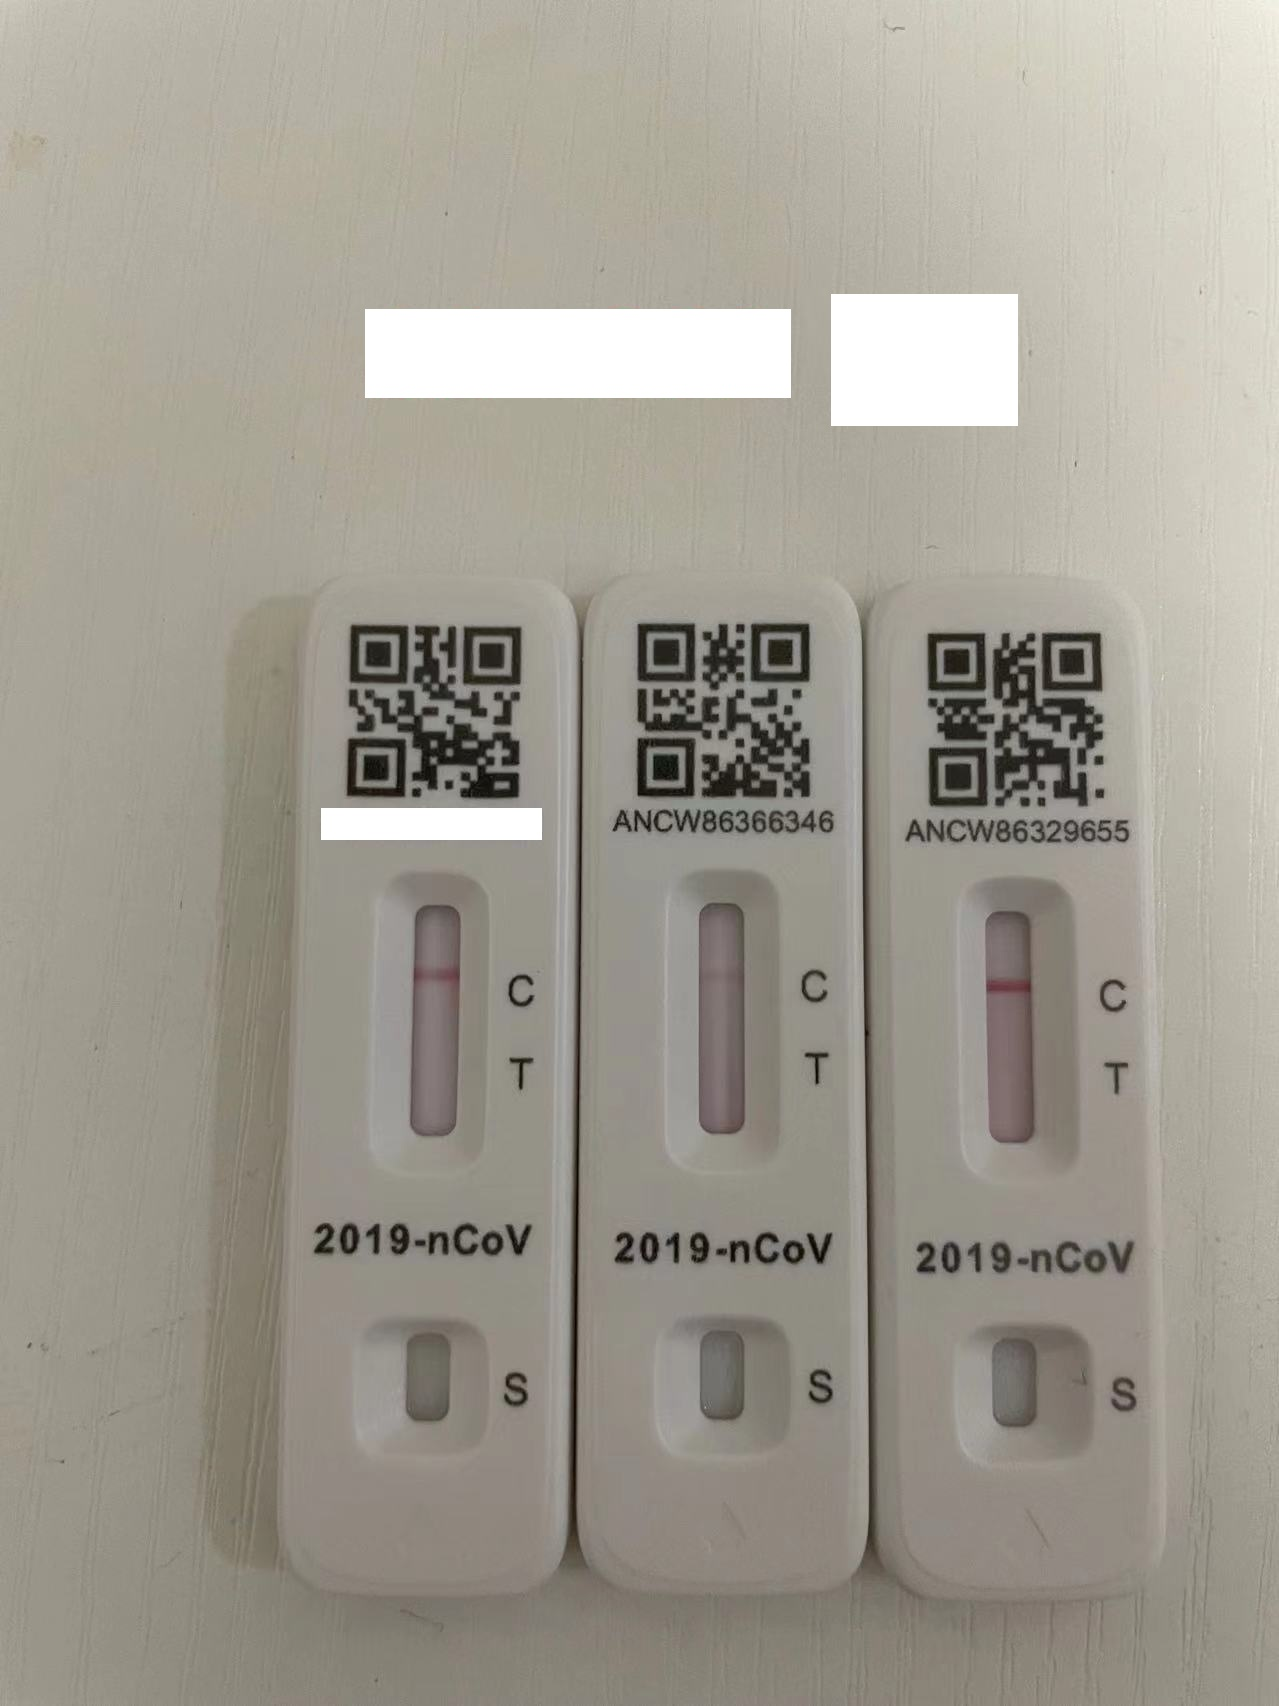negative: (957, 866, 1073, 1183), (673, 862, 783, 1183), (369, 872, 485, 1175)
